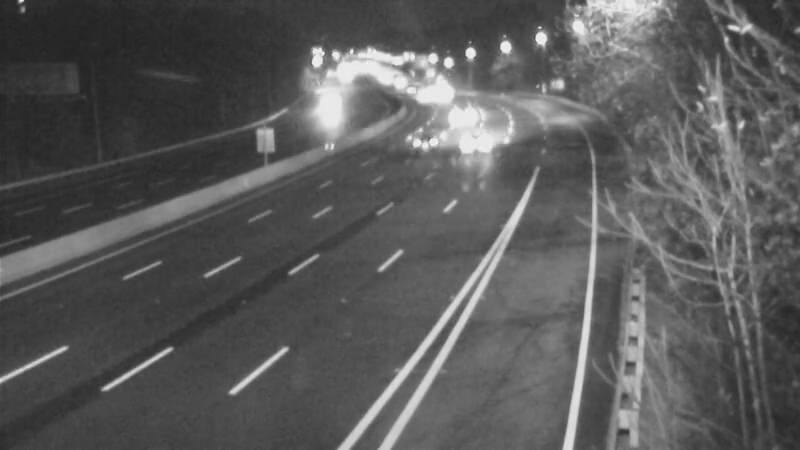vehicle: (428, 89, 478, 139), (405, 110, 455, 160), (447, 118, 497, 168)
